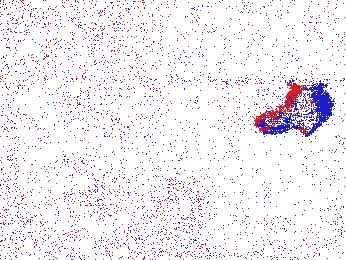flame jellyfish: (255, 89, 328, 138), (83, 184, 131, 229), (49, 185, 94, 230)
